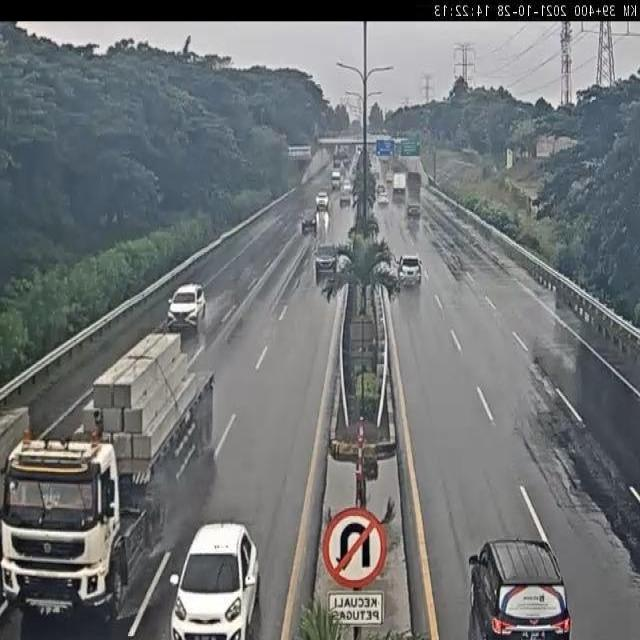Car: (168, 519, 262, 640), (468, 533, 573, 640), (165, 281, 208, 329), (314, 238, 340, 280), (399, 253, 423, 286), (299, 208, 319, 235), (316, 189, 329, 206), (338, 189, 348, 207), (377, 190, 387, 207)
Truck: (0, 334, 214, 622), (0, 399, 34, 511), (404, 172, 422, 218)
Van: (392, 172, 406, 198), (331, 172, 341, 188)
